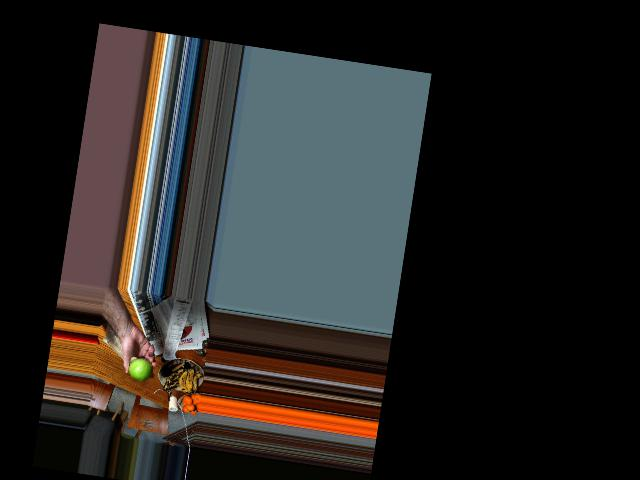apple: (127, 355, 153, 386)
